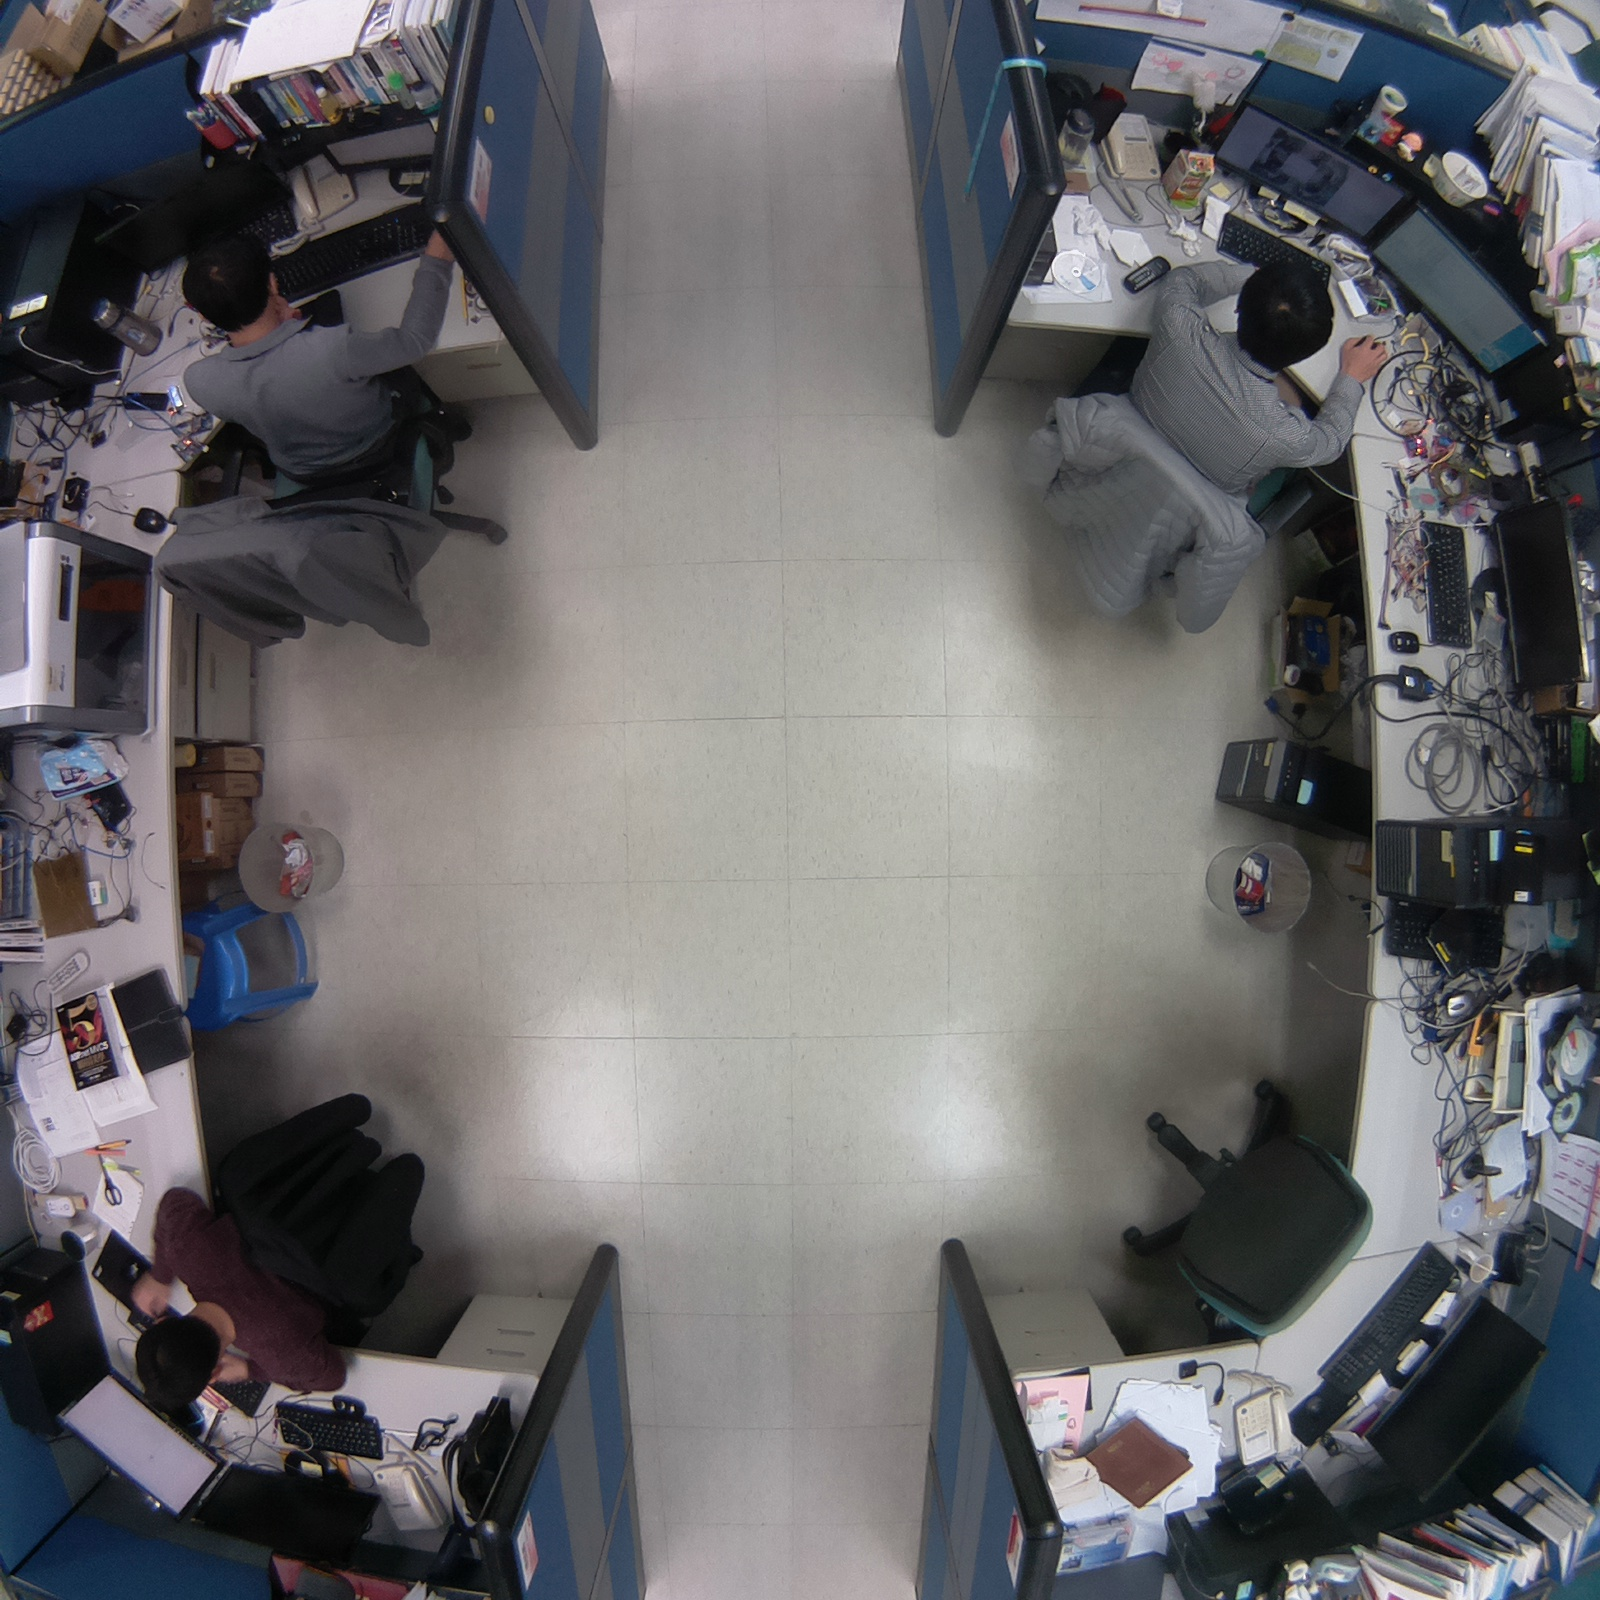chair: (1089, 1053, 1393, 1368)
sitting: (135, 212, 522, 674), (1011, 232, 1411, 658), (111, 1062, 470, 1432)
